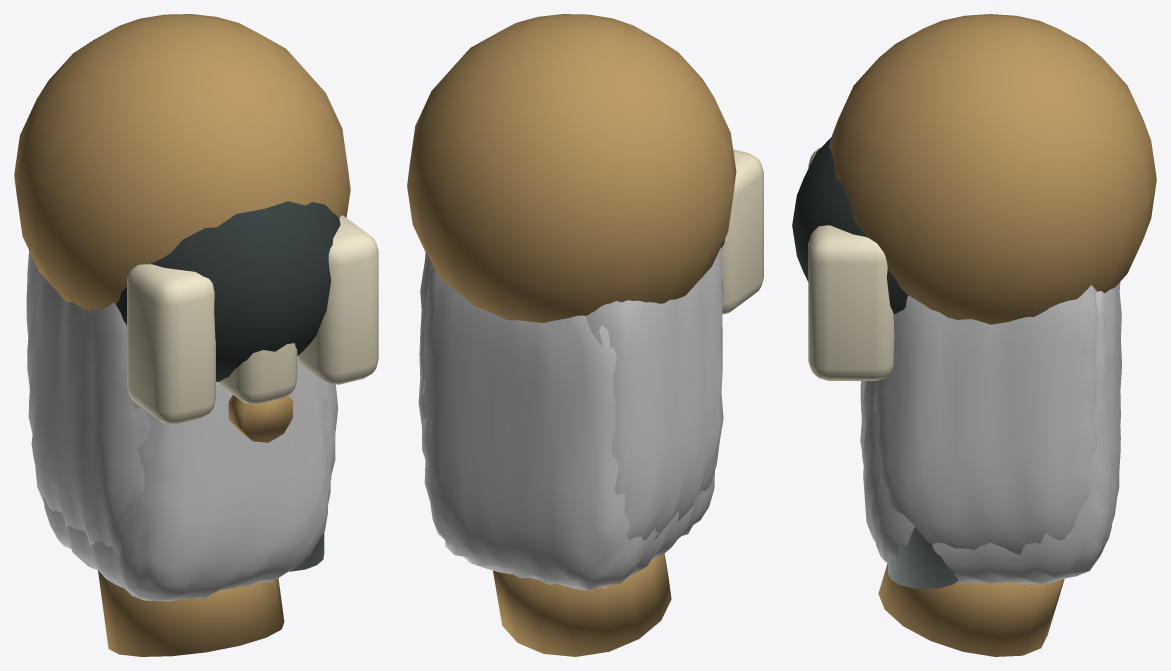
The model's file is hotshot-arm-0.glb.
3 views of the same model, side by side, from view 1: azimuth 30°, elevation 25°; view 2: azimuth 150°, elevation 25°; view 3: azimuth 270°, elevation 25° (orthographic). The views are drawn at different scales.
Visible parts, largest first — view 1: upper_brass, lower_clay, hand_ivory, upper_clay, hand_mechanism, lower_brass; view 2: upper_brass, lower_clay, upper_clay, lower_brass, hand_ivory; view 3: upper_brass, upper_clay, lower_clay, hand_ivory, lower_brass, hand_mechanism, upper_steel.
Boxes of the visible parts, x1=… form: upper_brass: x1=14, y1=14, x2=350, y2=310; lower_clay: x1=31, y1=356, x2=330, y2=601; hand_ivory: x1=127, y1=215, x2=378, y2=424; upper_clay: x1=26, y1=251, x2=338, y2=554; hand_mechanism: x1=116, y1=201, x2=340, y2=381; lower_brass: x1=98, y1=395, x2=292, y2=656; upper_brass: x1=407, y1=14, x2=736, y2=322; lower_clay: x1=422, y1=268, x2=714, y2=590; upper_clay: x1=418, y1=247, x2=723, y2=539; lower_brass: x1=493, y1=554, x2=671, y2=656; hand_ivory: x1=721, y1=149, x2=763, y2=314; upper_brass: x1=829, y1=14, x2=1156, y2=324; upper_clay: x1=873, y1=285, x2=1098, y2=554; lower_clay: x1=860, y1=282, x2=1121, y2=584; hand_ivory: x1=808, y1=147, x2=894, y2=380; lower_brass: x1=878, y1=564, x2=1064, y2=656; hand_mechanism: x1=792, y1=138, x2=908, y2=314; upper_steel: x1=888, y1=527, x2=958, y2=589.
Bounding box in the file's own units: 0.36 × 0.725 × 0.395.
